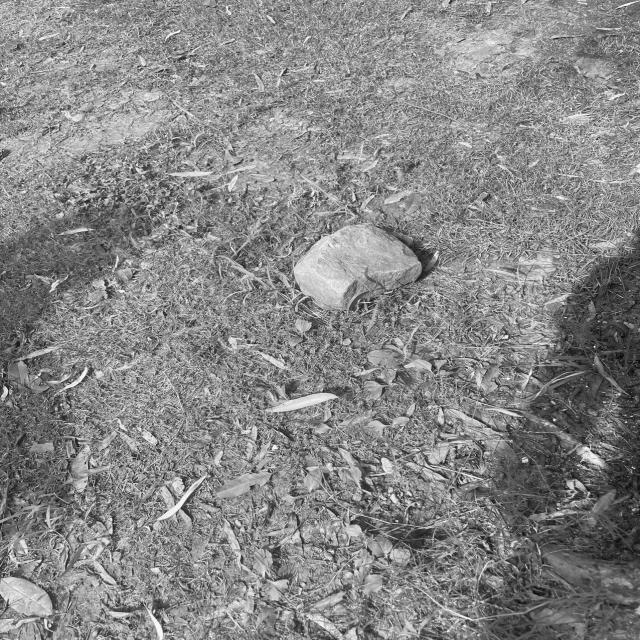Stone: (295, 224, 423, 309)
